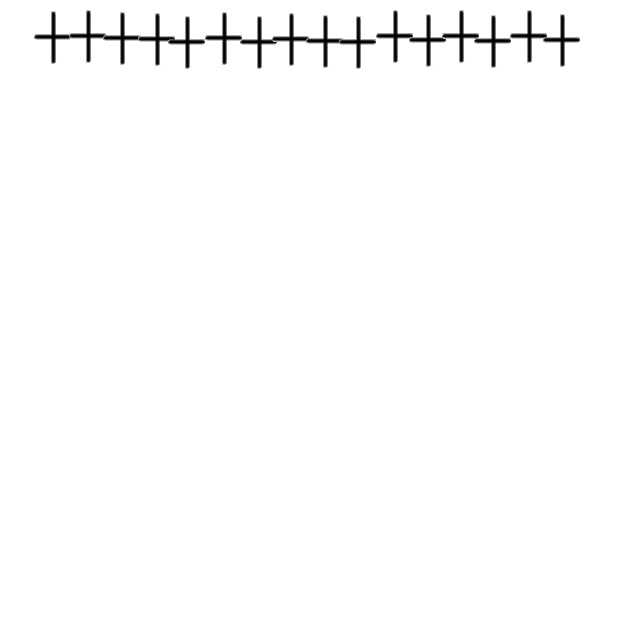double: (31, 11, 73, 65), (66, 10, 108, 64), (100, 12, 142, 66), (135, 13, 177, 67), (165, 16, 207, 70), (202, 12, 244, 66), (237, 16, 279, 70), (269, 13, 311, 67), (303, 15, 345, 69), (336, 16, 378, 70), (373, 10, 415, 64), (406, 14, 448, 68), (439, 10, 481, 64), (471, 15, 513, 69), (507, 10, 549, 64), (540, 14, 582, 68)
